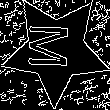M_E: (31, 26, 81, 74)
